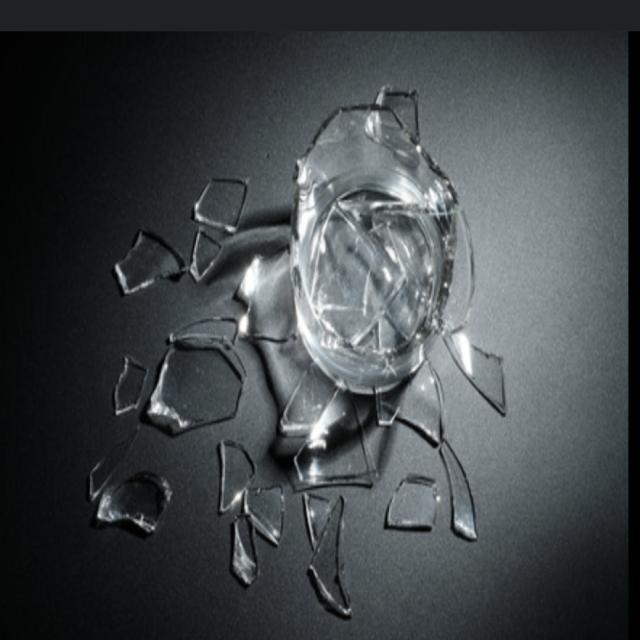PecahanKaca: (84, 81, 509, 620)
